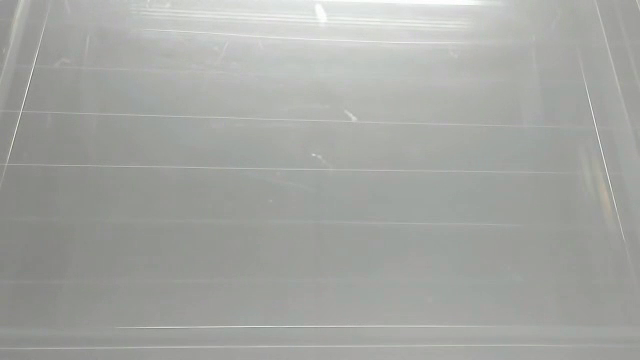alpha: (312, 1, 332, 31), (339, 106, 362, 127)
